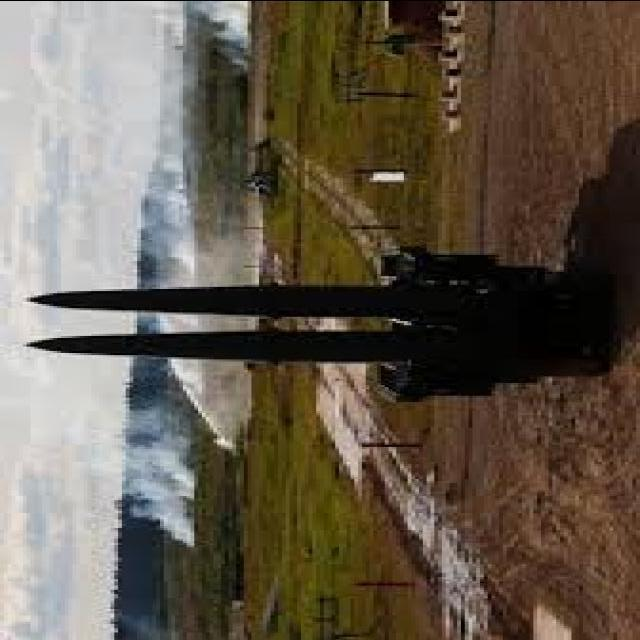missile: (9, 279, 417, 325), (0, 331, 405, 369)
